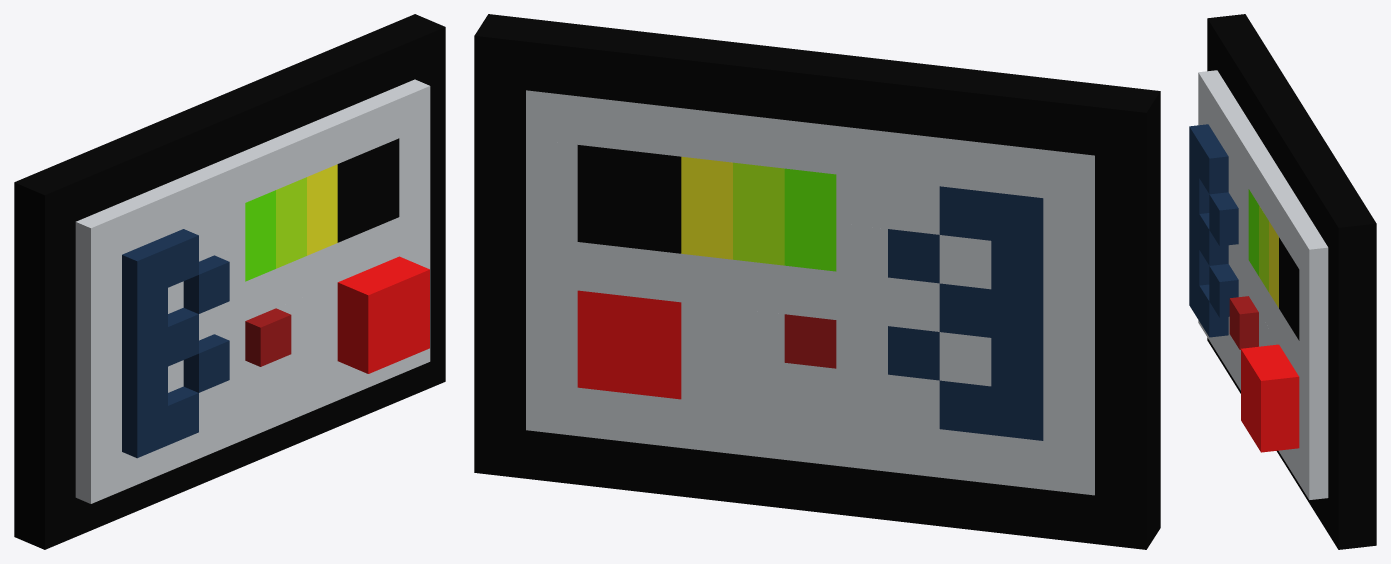
File: Timed Spike Bombmetacharging3.glb
The picture shows the model from 3 angles, left to right: view 1: azimuth 30°, elevation 25°; view 2: azimuth 150°, elevation 25°; view 3: azimuth 270°, elevation 25°; orthographic projection. The views are drawn at different scales.
Visible parts, largest first — view 1: generated(Clone); view 2: generated(Clone); view 3: generated(Clone).
Boxes of the visible parts, x1,y1,x2,y2 form: generated(Clone): (14, 14, 445, 549); generated(Clone): (474, 14, 1160, 549); generated(Clone): (1189, 14, 1376, 549).
Bounding box in the file's own units: 10.26 × 7.2 × 3.8.
1 material, 1 textured.
